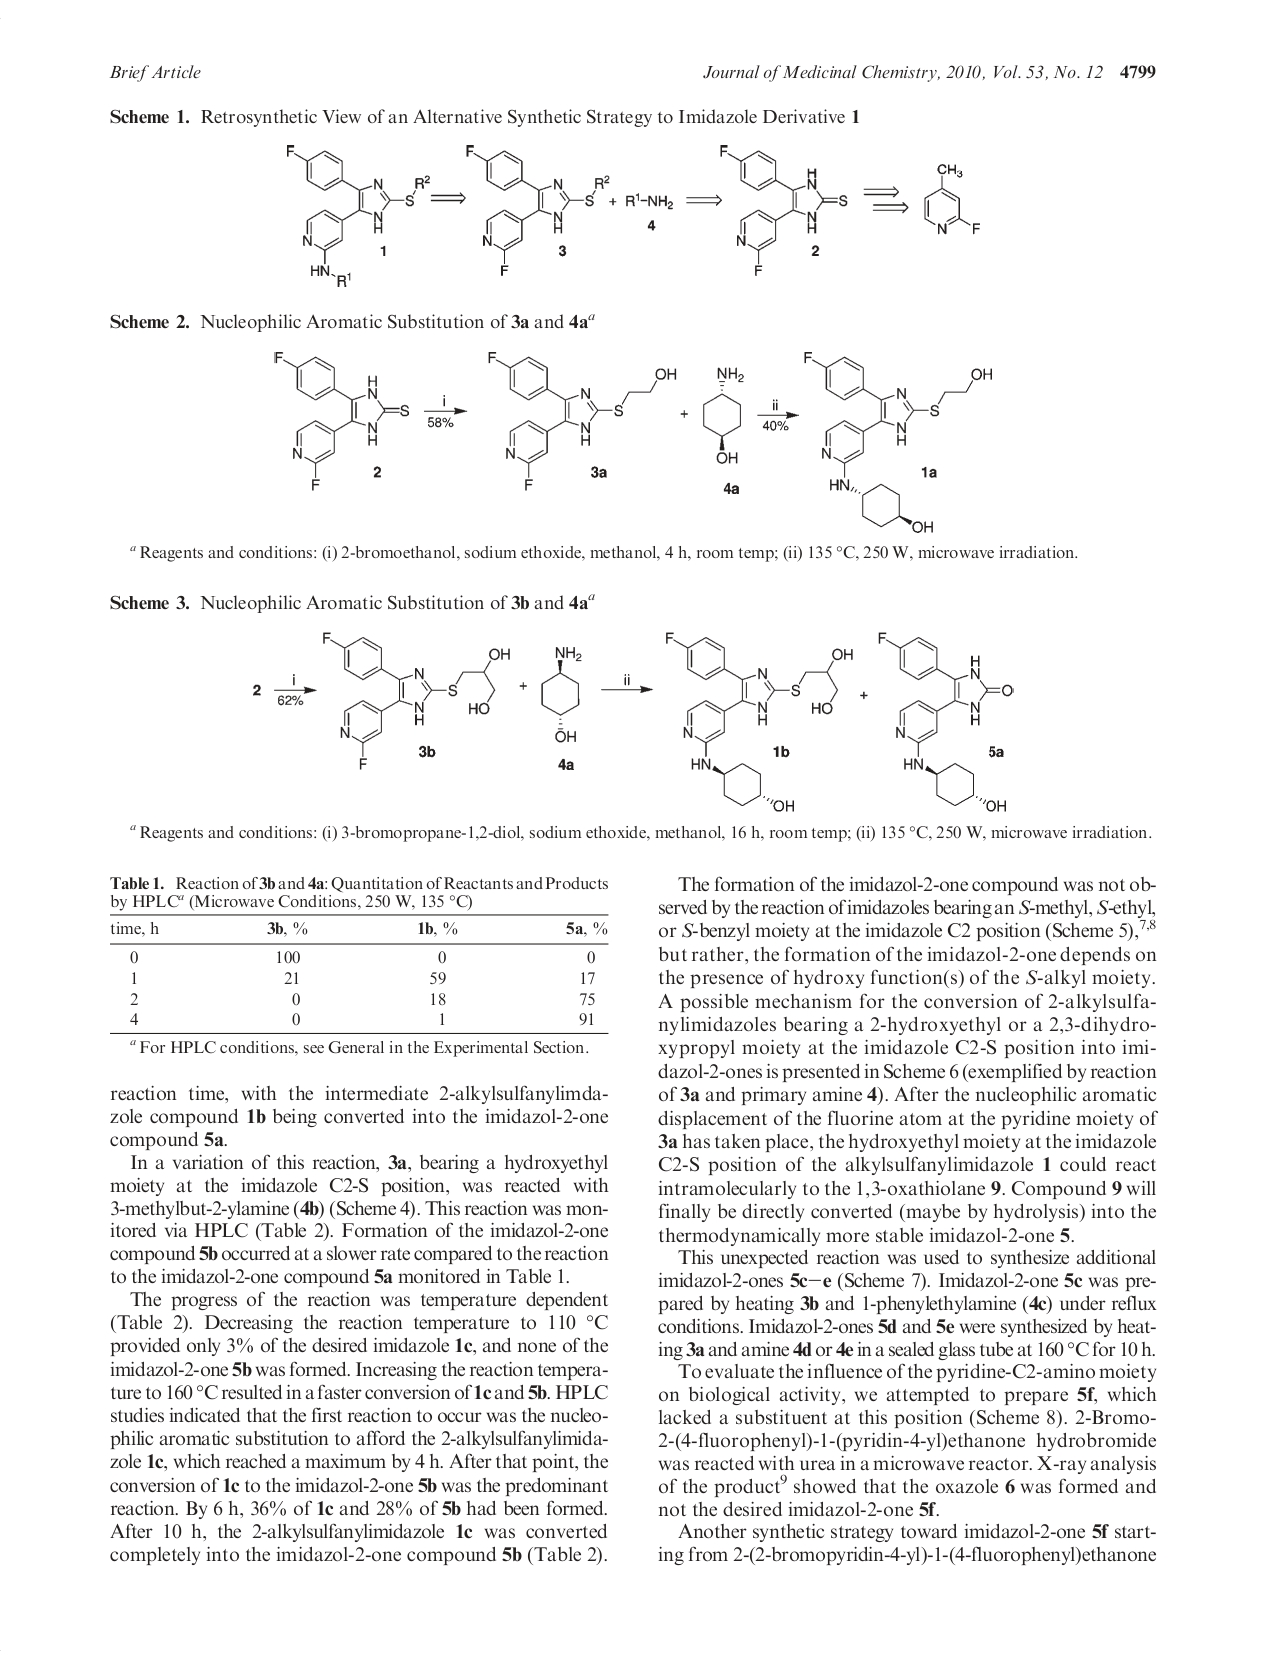exist_molecular: (799, 340, 999, 539), (664, 620, 858, 817), (483, 346, 680, 496), (318, 622, 516, 769), (872, 626, 1015, 815), (278, 132, 432, 289), (271, 340, 411, 491), (463, 144, 616, 277), (711, 140, 848, 277), (535, 638, 594, 755), (699, 358, 759, 472), (920, 158, 996, 243)
